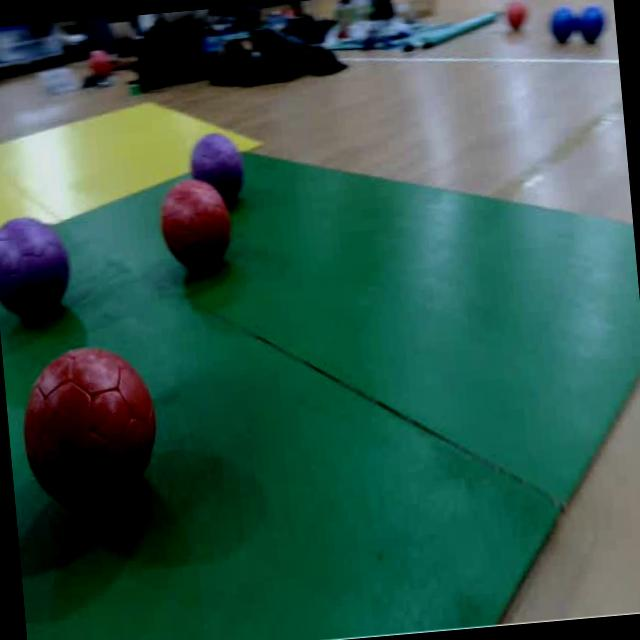blue_ball: (576, 1, 606, 39), (548, 5, 578, 42)
purple_ball: (0, 212, 74, 320), (190, 130, 244, 202)
red_ball: (17, 340, 162, 506), (158, 176, 235, 270), (506, 0, 528, 28)
